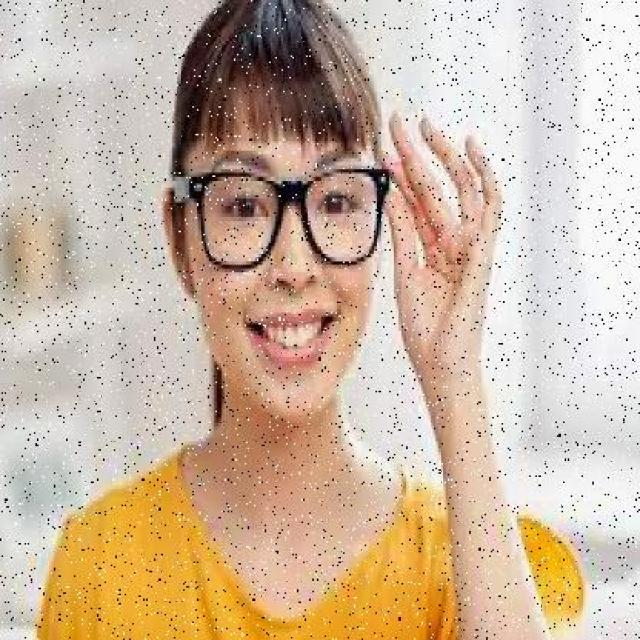mask: (184, 162, 393, 272)
